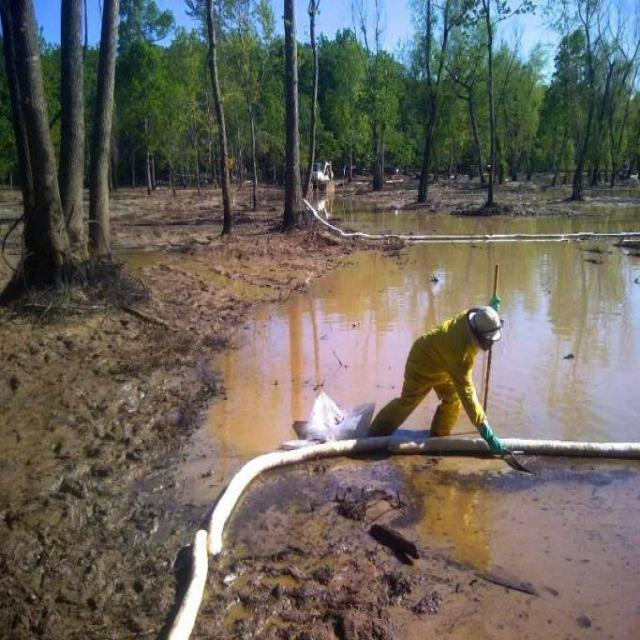flood: (144, 200, 640, 640)
